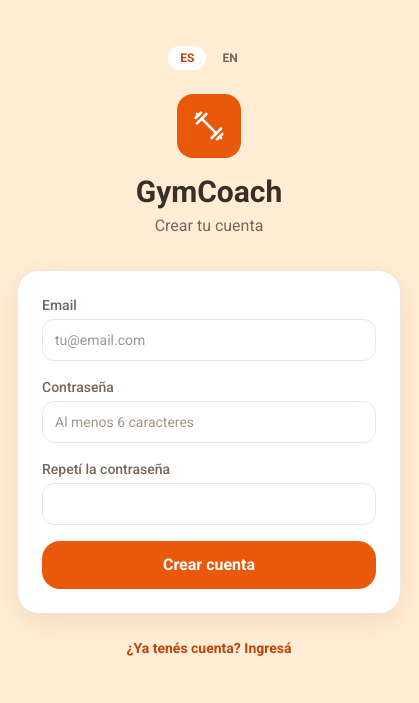
it: SignupPage › traduce el error de registro cerrado
Type "ana@mail.com" into the field labelled "Email". click: (209,340)
box: [42,319,376,361]
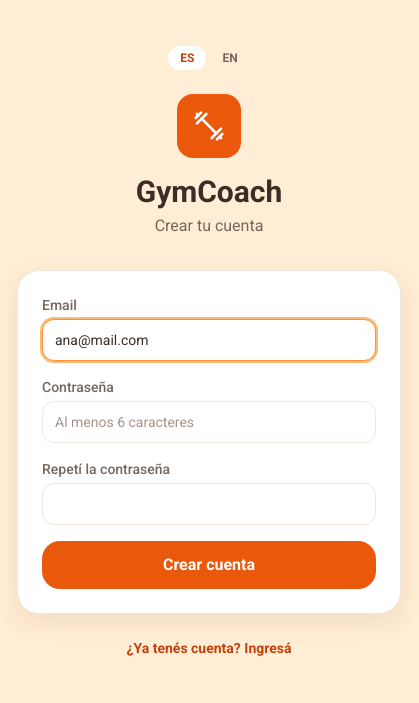
Type "123456" into the password field labelled "Contraseña". click: (209,422)
box: [42,401,376,443]
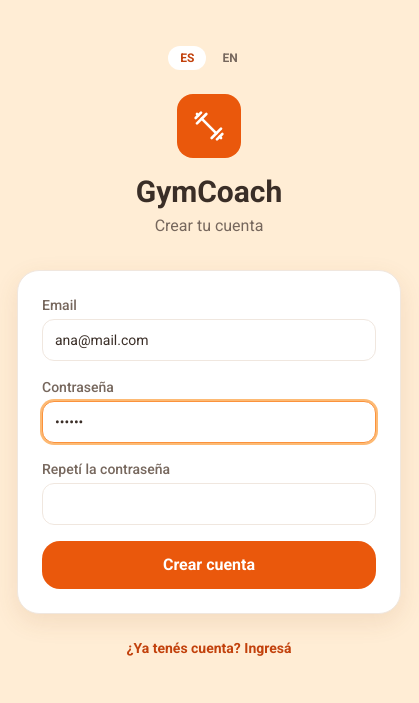
Type "123456" into the password field labelled "Repetí la contraseña". click: (209,504)
box: [42,483,376,525]
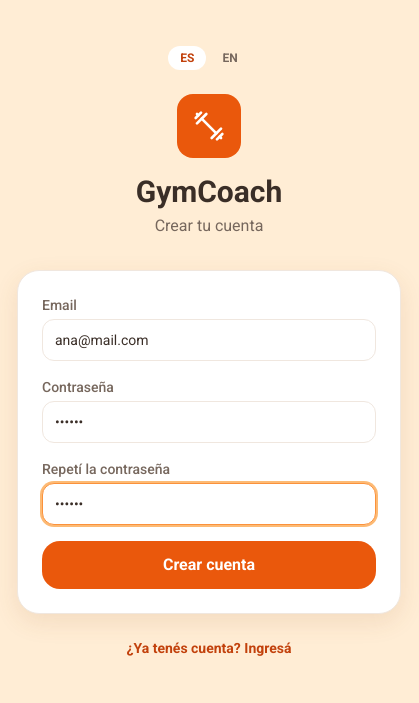
Click the button "Crear cuenta". click: (209,565)
box: [42,541,376,589]
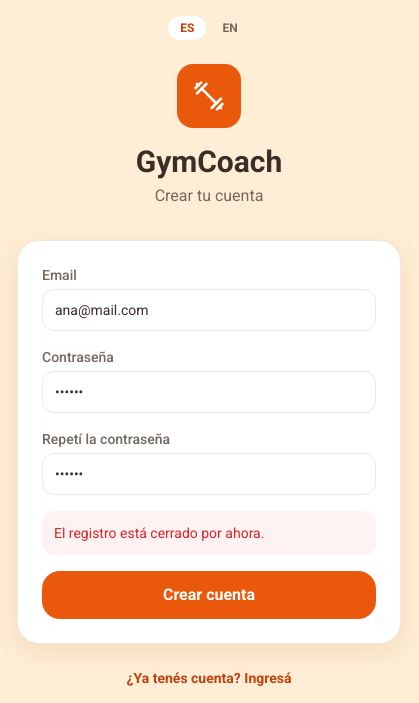
Expected: the text "El registro está cerrado por ahora." is shown, [42,511,376,555]
